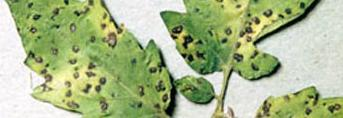Tomato leaf bacterial spot: (0, 0, 175, 118), (159, 0, 343, 85), (245, 83, 343, 118)
